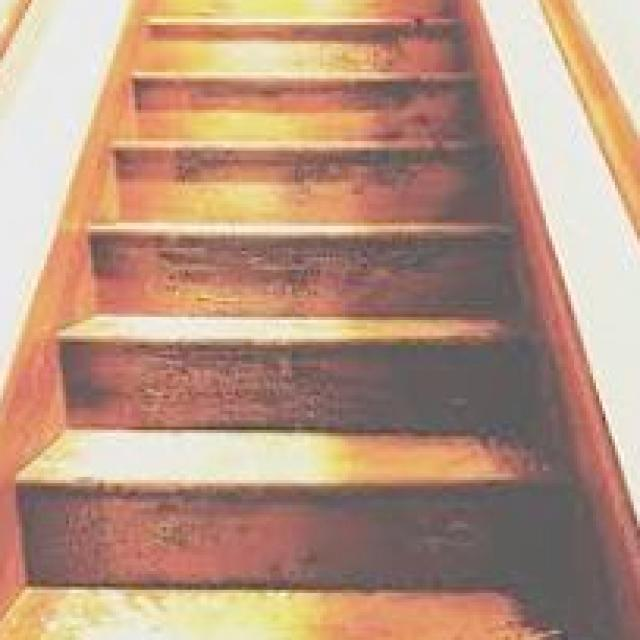upstair: (1, 230, 588, 528)
